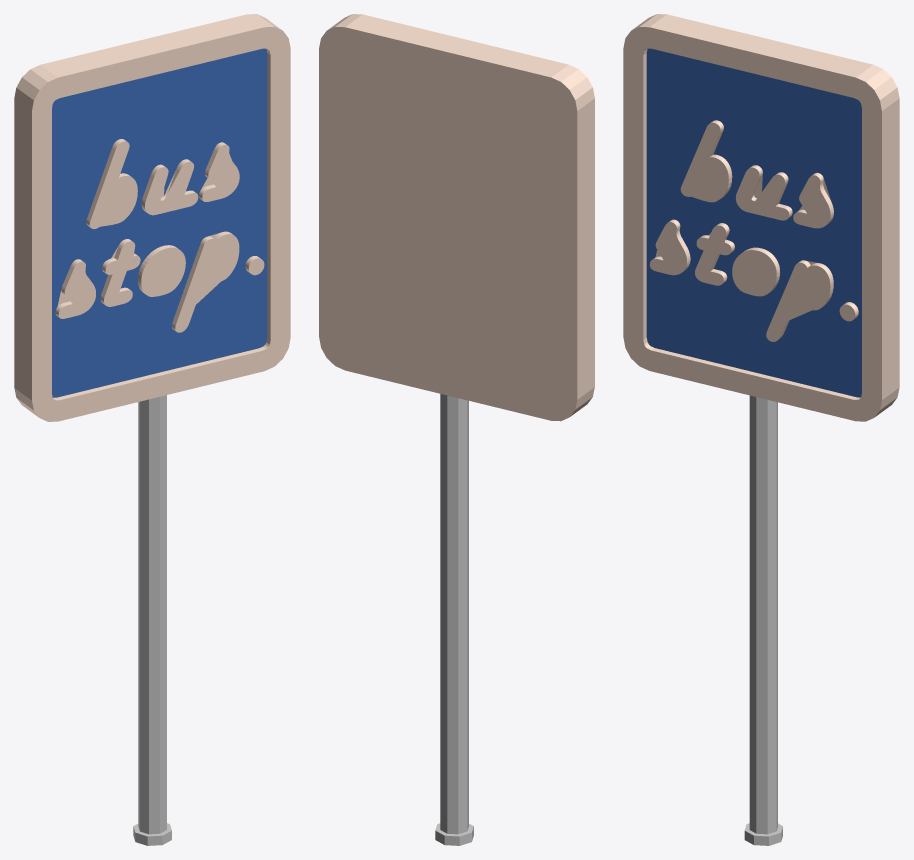
Rendered from bus_stop_sign.fbx.
The picture shows the model from 3 angles, left to right: view 1: azimuth 30°, elevation 25°; view 2: azimuth 150°, elevation 25°; view 3: azimuth 330°, elevation 25°; orthographic projection.
Visible parts, largest first — view 1: bus_stop_sign; view 2: bus_stop_sign; view 3: bus_stop_sign.
Boxes of the visible parts, x1,y1,x2,y2 form: bus_stop_sign: (14, 14, 290, 845); bus_stop_sign: (319, 14, 594, 845); bus_stop_sign: (623, 14, 899, 845).
Bounding box in the file's own units: 68.29 × 200 × 9.2.
